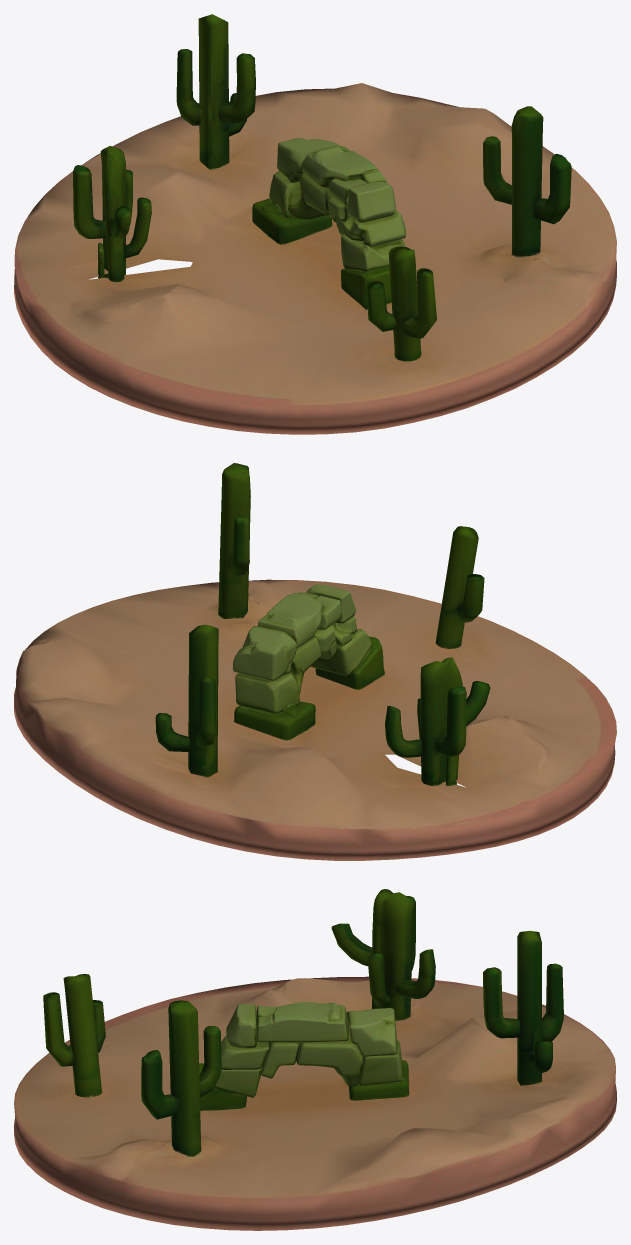
Rendered from desert.glb.
3 renders of one model, top to bottom at view 1: azimuth 30°, elevation 25°; view 2: azimuth 150°, elevation 25°; view 3: azimuth 270°, elevation 25°, orthographic.
Visible parts, largest first — view 1: b0e676d5_2f00_44c1_a890_02a1a6150e36; view 2: b0e676d5_2f00_44c1_a890_02a1a6150e36; view 3: b0e676d5_2f00_44c1_a890_02a1a6150e36.
Part boxes in pixels (bbox=[...]): b0e676d5_2f00_44c1_a890_02a1a6150e36: bbox=[14, 14, 616, 434]; b0e676d5_2f00_44c1_a890_02a1a6150e36: bbox=[14, 463, 616, 860]; b0e676d5_2f00_44c1_a890_02a1a6150e36: bbox=[14, 889, 616, 1230].
Size of the model in its own units: 0.9995 by 0.394 by 0.9995.
Materials: 1 (1 with a texture image).
